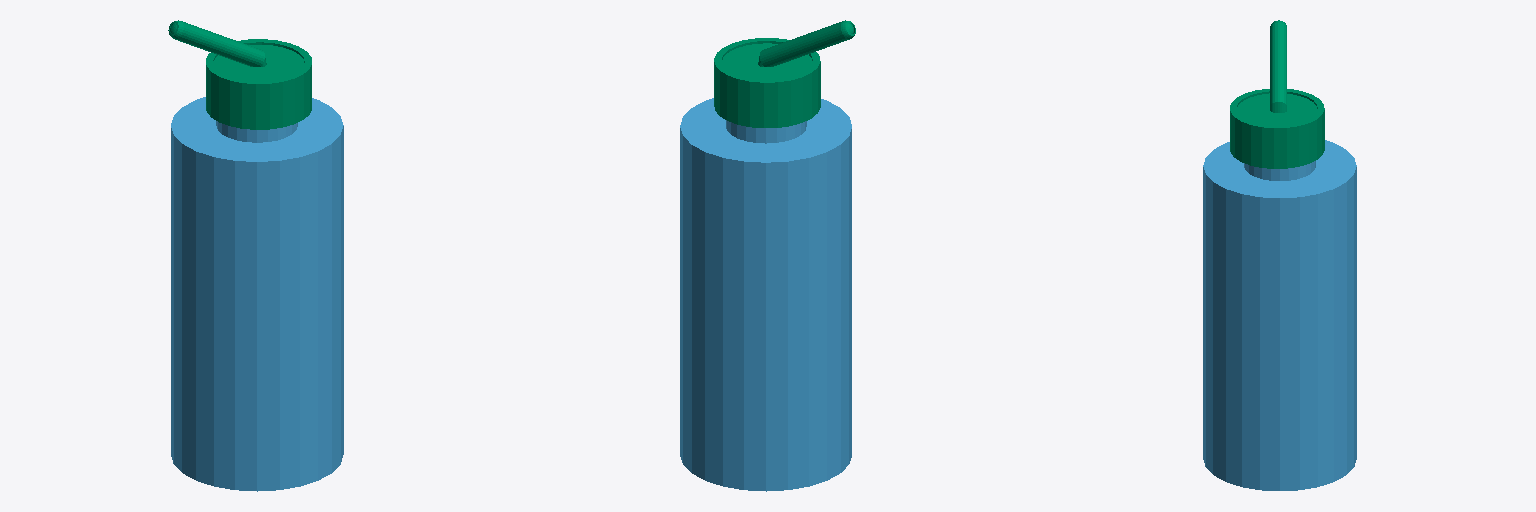
URDF robot description (partnet_d655a217ad7d8974ce60bdf271ddc452):
<?xml version="1.0" ?>
<robot name="partnet_d655a217ad7d8974ce60bdf271ddc452">
	<link name="base"/>
	<link name="link_0">
		<visual name="body-6">
			<origin xyz="0 0 0"/>
			<geometry>
				<mesh filename="textured_objs/new-1.obj"/>
			</geometry>
		</visual>
		<collision>
			<origin xyz="0 0 0"/>
			<geometry>
				<mesh filename="textured_objs/new-1.obj"/>
			</geometry>
		</collision>
	</link>
	<joint name="joint_0" type="fixed">
		<origin rpy="1.570796326794897 0 -1.570796326794897" xyz="0 0 0"/>
		<child link="link_0"/>
		<parent link="base"/>
	</joint>
	<link name="link_1">
		<visual name="lid-7">
			<origin xyz="-0.003606159094378586 0 -0.00040516965130836524"/>
			<geometry>
				<mesh filename="textured_objs/original-3.obj"/>
			</geometry>
		</visual>
		<visual name="mouth-8">
			<origin xyz="-0.003606159094378586 0 -0.00040516965130836524"/>
			<geometry>
				<mesh filename="textured_objs/original-5.obj"/>
			</geometry>
		</visual>
		<collision>
			<origin xyz="-0.003606159094378586 0 -0.00040516965130836524"/>
			<geometry>
				<mesh filename="textured_objs/original-3.obj"/>
			</geometry>
		</collision>
		<collision>
			<origin xyz="-0.003606159094378586 0 -0.00040516965130836524"/>
			<geometry>
				<mesh filename="textured_objs/original-5.obj"/>
			</geometry>
		</collision>
	</link>
	<joint name="joint_1" type="continuous">
		<origin xyz="0.0 0 0.0"/>
		<axis xyz="0 1 0"/>
		<child link="link_1"/>
		<parent link="link_1_helper"/>
	</joint>
	<link name="link_1_helper"/>
	<joint name="joint_2" type="prismatic">
		<origin xyz="0.003606159094378586 0 0.00040516965130836524"/>
		<axis xyz="0 1 0"/>
		<child link="link_1_helper"/>
		<parent link="link_0"/>
		<limit lower="0.008000000000000007" upper="0.14000000000000012"/>
	</joint>
</robot>

--- Render facts (derived) ---
3 views of the same robot in one strip: view 1: azimuth 30°, elevation 25°; view 2: azimuth 150°, elevation 25°; view 3: azimuth 270°, elevation 25° (orthographic).
Model partnet_d655a217ad7d8974ce60bdf271ddc452 with 4 links and 3 joints (1 continuous, 1 prismatic, 1 fixed), rooted at base, posed all joints at 0 but 1 set to mid-range because 0 is outside their limits (joint_2 = 0.074).
Links seen in each view (by area): view 1: link_0, link_1; view 2: link_0, link_1; view 3: link_0, link_1.
Boxes of the visible links, x1=… form: link_0: x1=171, y1=97, x2=343, y2=491; link_1: x1=168, y1=20, x2=311, y2=129; link_0: x1=680, y1=98, x2=851, y2=491; link_1: x1=714, y1=20, x2=855, y2=127; link_0: x1=1203, y1=140, x2=1356, y2=490; link_1: x1=1230, y1=20, x2=1324, y2=168.
Size in the robot's own frame: 0.6537 by 0.6021 by 1.74 metres.
Meshes: 3 distinct files referenced, 3 mesh visuals loaded (3 OBJ).
